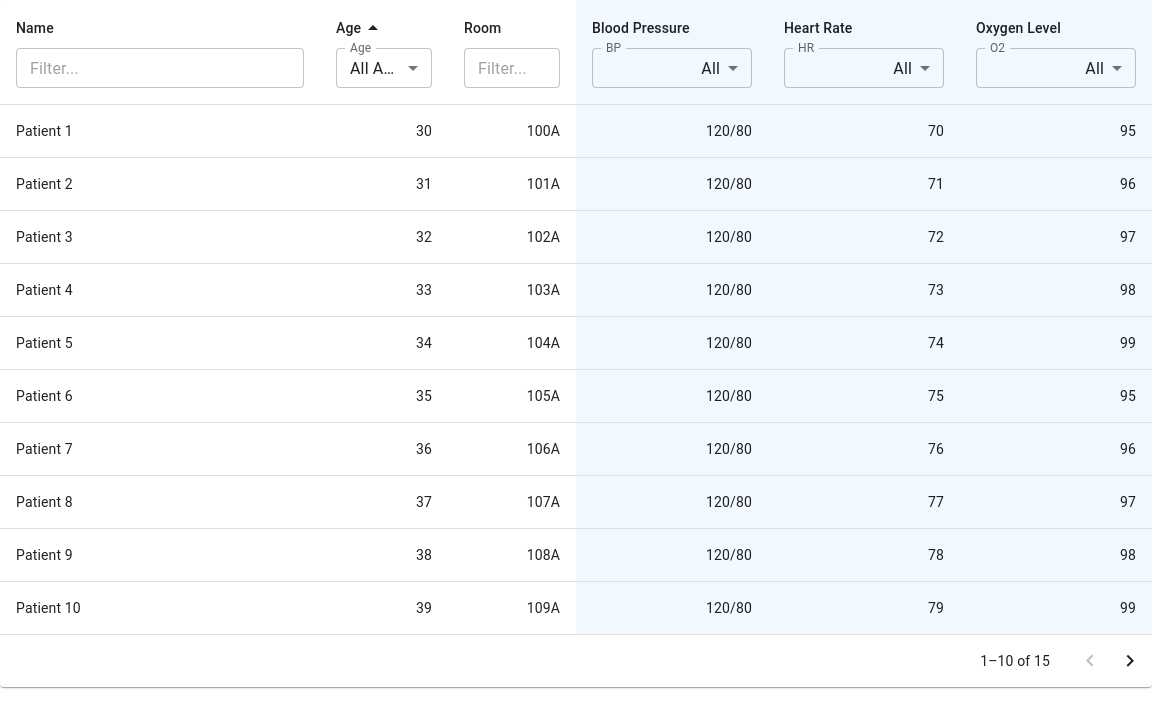
it: PatientDashboardTable › handles page changes correctly
The width and height of the screenshot is (1164, 720).
Check: the text "Patient 1" is shown, box top-left (0, 104), bottom-right (320, 158)
Check: the text "Patient 11" is not shown
// Click the next page button
Click the button named "next page".
click(1130, 661)  # box top-left (1110, 641), bottom-right (1150, 681)
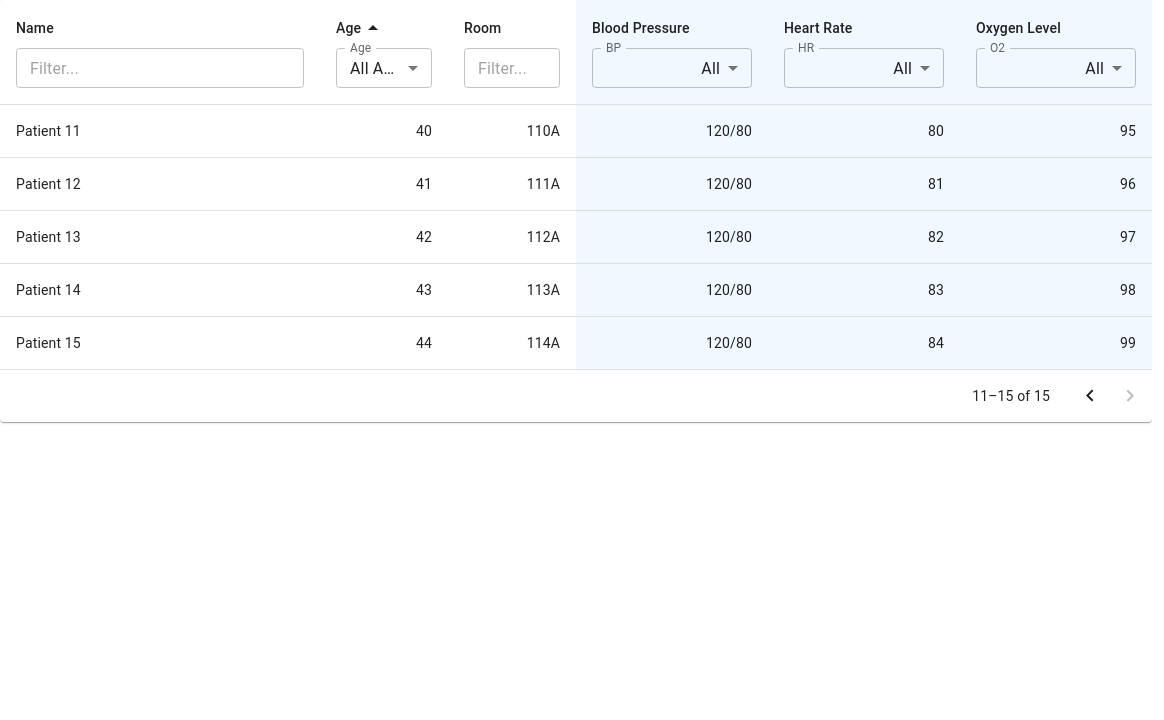
Check: the text "Patient 11" is shown, box top-left (0, 104), bottom-right (320, 158)
